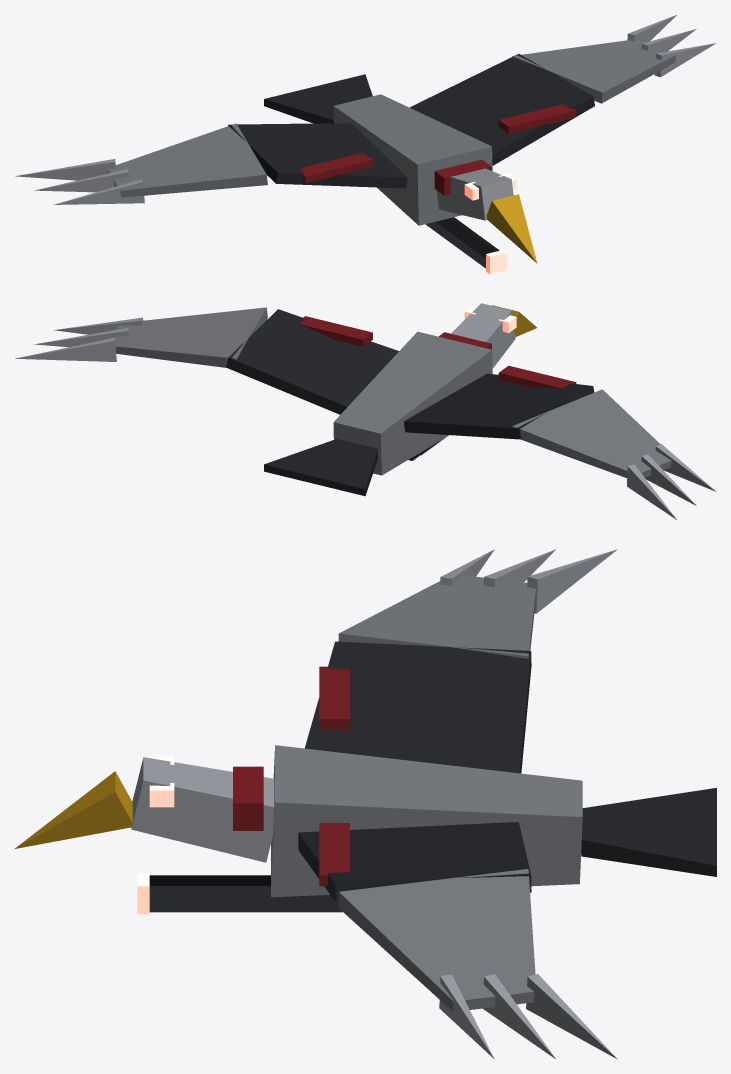
File: wasp.glb
3 views of the same model, one above another, from view 1: azimuth 30°, elevation 25°; view 2: azimuth 150°, elevation 25°; view 3: azimuth 270°, elevation 25° (orthographic). The views are drawn at different scales.
Visible parts, largest first — view 1: DWaspHull, DWaspGlow; view 2: DWaspHull; view 3: DWaspHull, DWaspGlow.
Part boxes in pixels (x1=…): DWaspHull: x1=15, y1=15, x2=716, y2=268; DWaspGlow: x1=464, y1=173, x2=516, y2=274; DWaspHull: x1=15, y1=303, x2=716, y2=520; DWaspHull: x1=14, y1=549, x2=716, y2=1059; DWaspGlow: x1=137, y1=756, x2=174, y2=914.
Bounding box in the file's own units: 1.96 × 0.2609 × 1.14.
